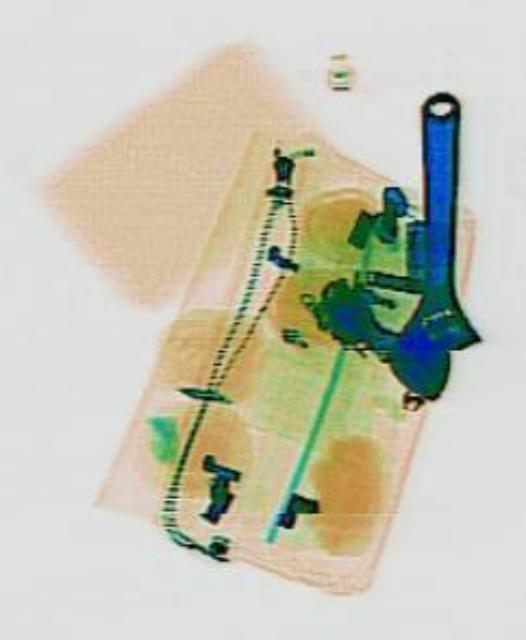Wrench: (383, 88, 482, 398)
